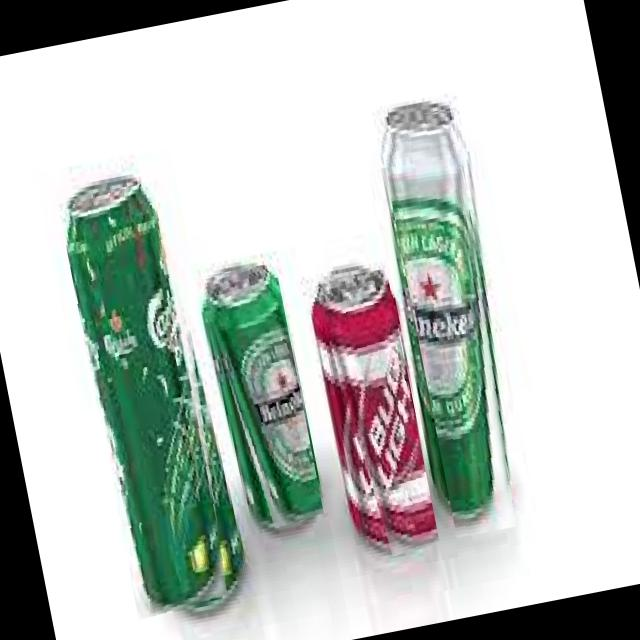Cans: (58, 178, 252, 622), (376, 105, 535, 538), (312, 268, 441, 562), (198, 262, 326, 534)
